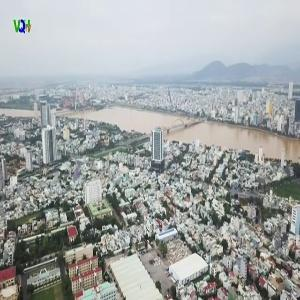drone: (58, 155, 98, 195)
